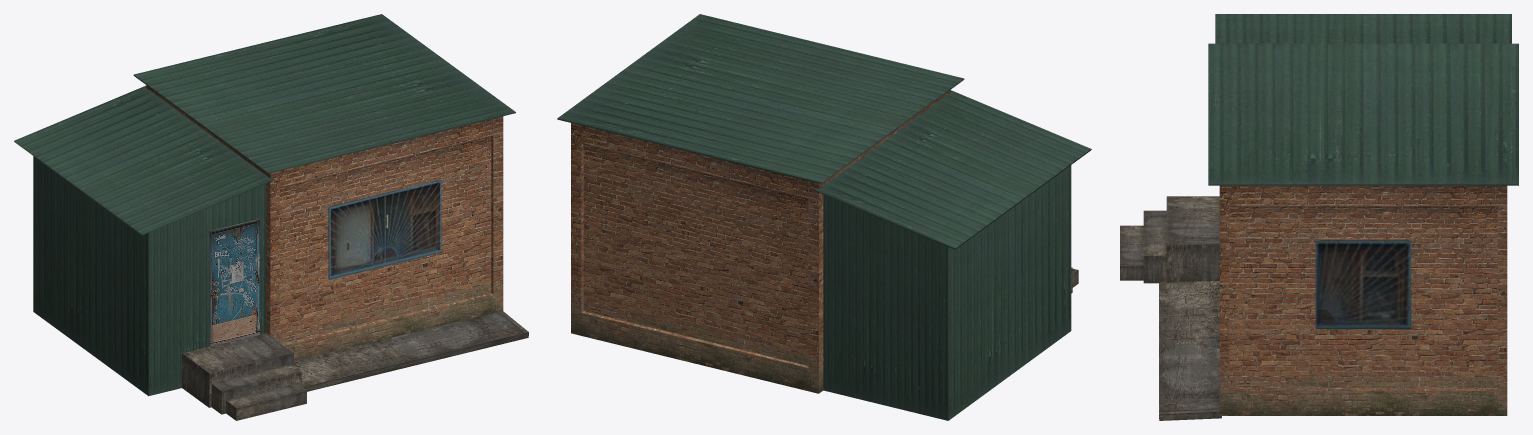
File: r402_omsk_pereezd_budka.FBX
3 views of the same model, side by side, from view 1: azimuth 30°, elevation 25°; view 2: azimuth 150°, elevation 25°; view 3: azimuth 270°, elevation 25° (orthographic). The views are drawn at different scales.
Parts seen in each view (by area): view 1: r402_omsk_pereezd_budka; view 2: r402_omsk_pereezd_budka; view 3: r402_omsk_pereezd_budka.
Part boxes in pixels (bbox=[...]): r402_omsk_pereezd_budka: bbox=[14, 14, 528, 420]; r402_omsk_pereezd_budka: bbox=[557, 14, 1091, 420]; r402_omsk_pereezd_budka: bbox=[1120, 14, 1518, 420].
Bounding box in the file's own units: 671 × 539 × 360.
